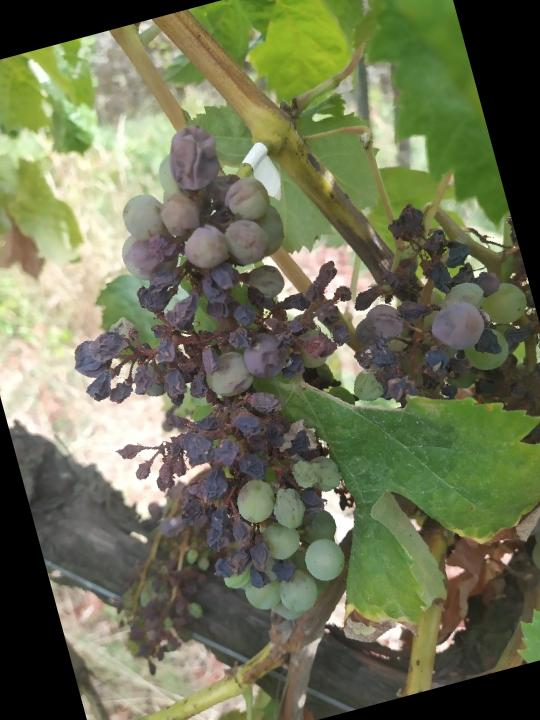grape: (18, 100, 388, 664), (317, 179, 540, 611)
